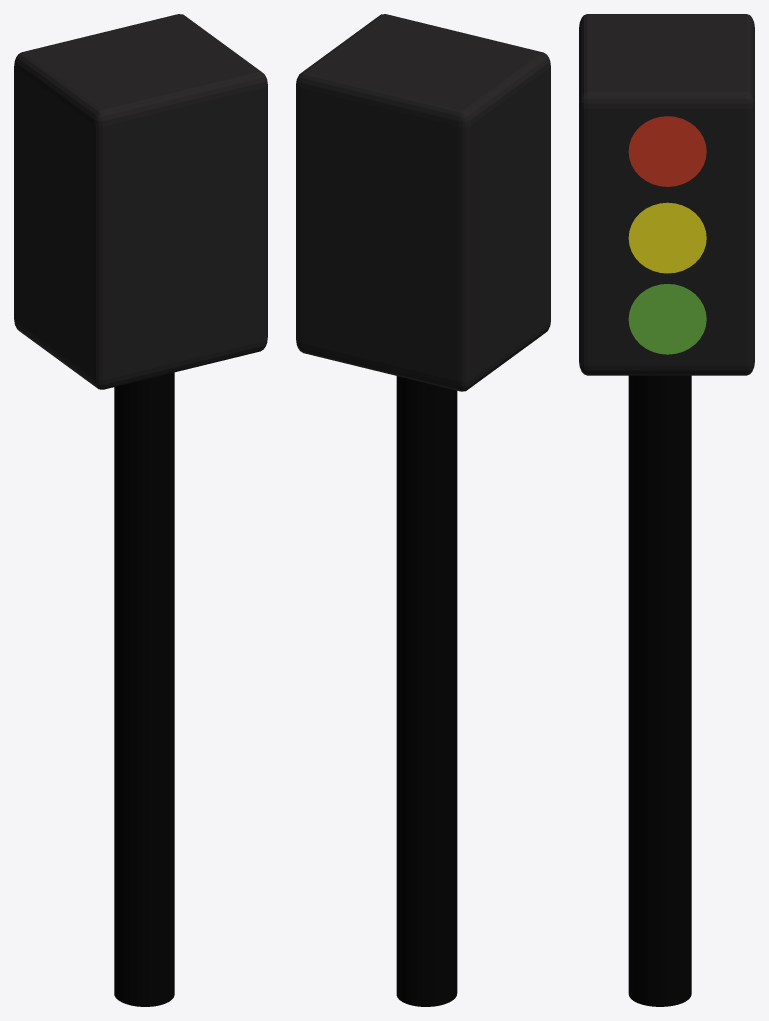
File: smaforo.fbx
3 renders of one model, left to right at view 1: azimuth 30°, elevation 25°; view 2: azimuth 150°, elevation 25°; view 3: azimuth 270°, elevation 25°, orthographic.
Parts seen in each view (by area): view 1: Circle.003; view 2: Circle.003; view 3: Circle.003.
Part boxes in pixels (x1,y1,x2,y2): Circle.003: (14, 14, 267, 1006); Circle.003: (296, 14, 550, 1006); Circle.003: (579, 14, 754, 1006).
Bounding box in the file's own units: 122 × 622 × 105.
1 material, 1 textured.
